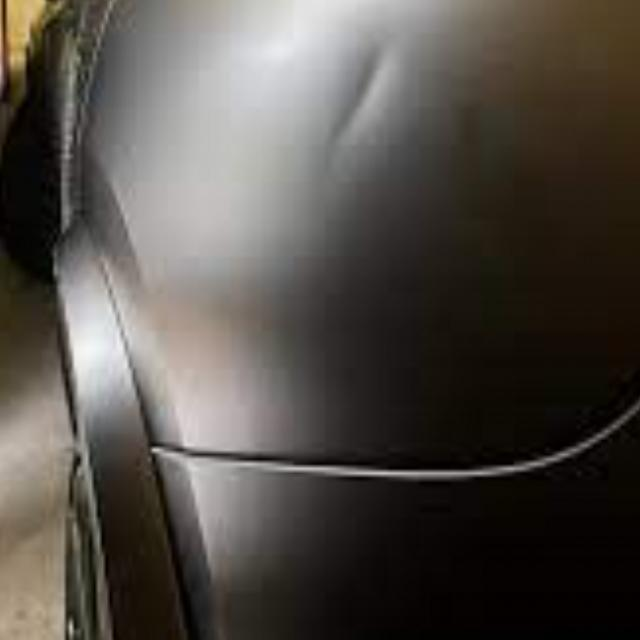dents: (292, 20, 436, 212)
